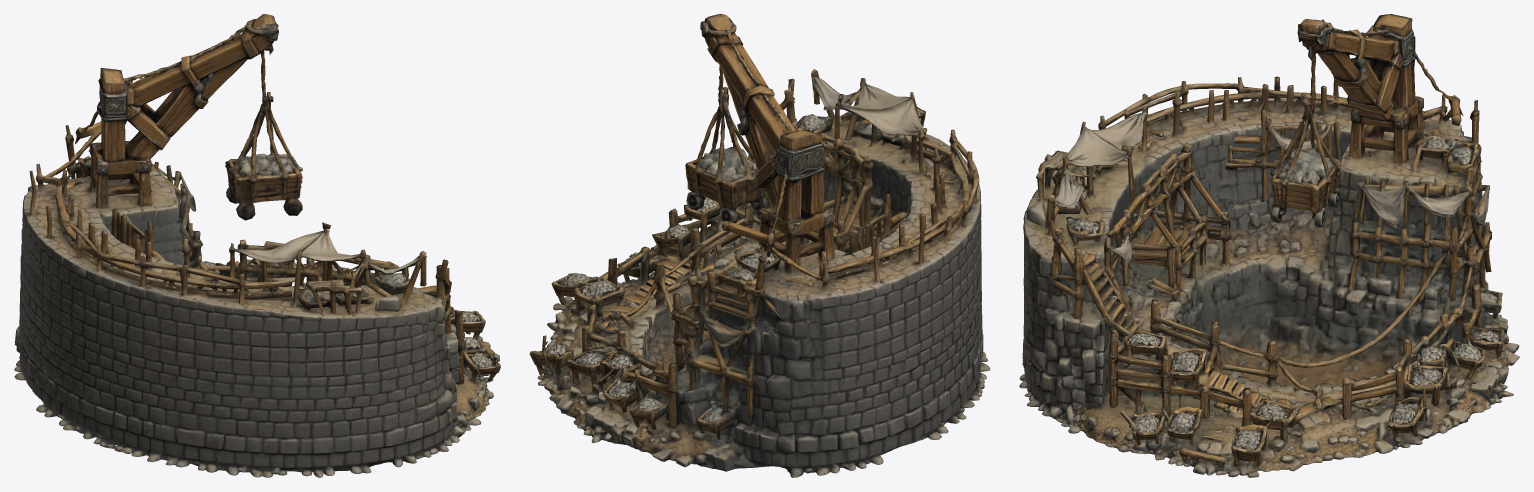
File: tripo_convert_5b1daa14-9610-4bc4-abc4-6b850afa4dfd.fbx
3 renders of one model, left to right at view 1: azimuth 30°, elevation 25°; view 2: azimuth 150°, elevation 25°; view 3: azimuth 270°, elevation 25°, orthographic. The views are drawn at different scales.
Visible parts, largest first — view 1: tripo_node_5b1daa14; view 2: tripo_node_5b1daa14; view 3: tripo_node_5b1daa14.
Boxes of the visible parts, bbox=[...] form: tripo_node_5b1daa14: bbox=[14, 14, 500, 477]; tripo_node_5b1daa14: bbox=[529, 14, 990, 477]; tripo_node_5b1daa14: bbox=[1019, 14, 1519, 477].
Bounding box in the file's own units: 0.9583 × 0.7766 × 0.9712.
Materials: 1 (1 with a texture image).
